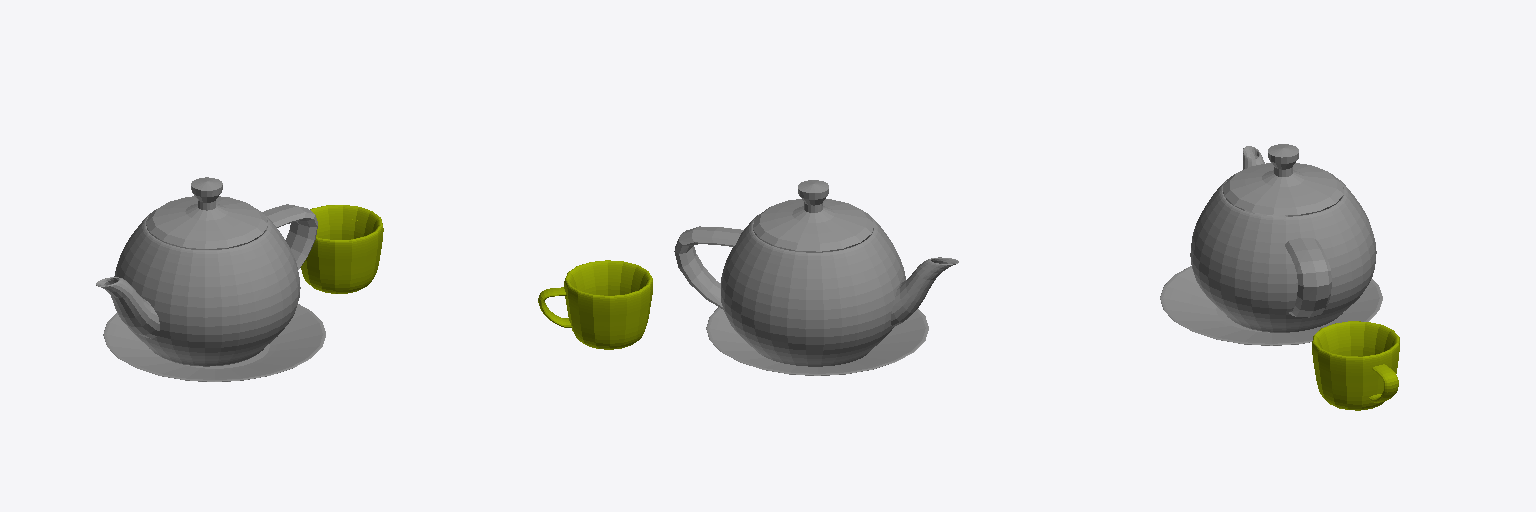
File: ceramics.obj
3 renders of one model, left to right at view 1: azimuth 30°, elevation 25°; view 2: azimuth 150°, elevation 25°; view 3: azimuth 270°, elevation 25°, orthographic.
Parts seen in each view (by area): view 1: Teapot04, Cylinder15, Teapot05; view 2: Teapot04, Teapot05, Cylinder15; view 3: Teapot04, Teapot05, Cylinder15.
Part boxes in pixels (x1,y1,x2,y2): Teapot04: (96, 177, 317, 366); Cylinder15: (103, 304, 325, 381); Teapot05: (301, 205, 383, 293); Teapot04: (674, 180, 958, 366); Teapot05: (538, 260, 652, 349); Cylinder15: (706, 307, 928, 375); Teapot04: (1190, 144, 1376, 332); Teapot05: (1312, 321, 1399, 410); Cylinder15: (1160, 266, 1382, 345).
Size of the model in its own units: 11.56 by 5.35 by 6.87.